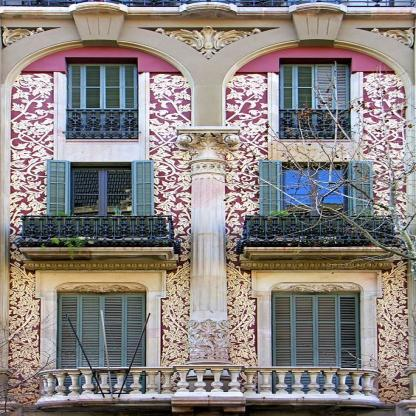Balcony: (41, 365, 381, 398), (22, 215, 174, 247), (246, 215, 395, 247)
Blind: (272, 295, 360, 398), (58, 295, 146, 398), (69, 64, 137, 139), (280, 64, 348, 139), (46, 160, 69, 245), (260, 160, 281, 245), (352, 161, 373, 245), (133, 160, 153, 245)
Building Outline: (1, 0, 415, 416)
Cornice: (292, 13, 343, 48), (72, 14, 125, 47), (55, 283, 148, 293), (270, 283, 362, 293)
Deco: (155, 26, 262, 60), (22, 260, 178, 271), (240, 261, 394, 271), (370, 26, 416, 47), (1, 26, 45, 47)
Facade: (1, 0, 415, 416)
Floor: (1, 252, 415, 399), (1, 14, 415, 140), (1, 144, 415, 247)
Floor Slab: (1, 139, 415, 144), (1, 247, 415, 251), (1, 9, 415, 13), (1, 399, 415, 403)
Pillar: (176, 126, 240, 397)
Window: (272, 295, 360, 398), (58, 295, 146, 398), (282, 167, 350, 246), (68, 167, 136, 245), (280, 64, 348, 139), (69, 64, 137, 139)
Window Hole: (279, 162, 352, 245), (279, 58, 352, 140), (66, 58, 138, 140), (66, 163, 138, 245)
